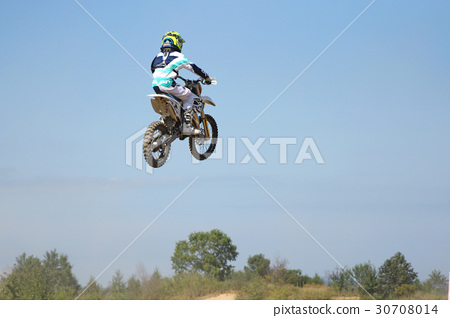helmet: (156, 30, 188, 57)
